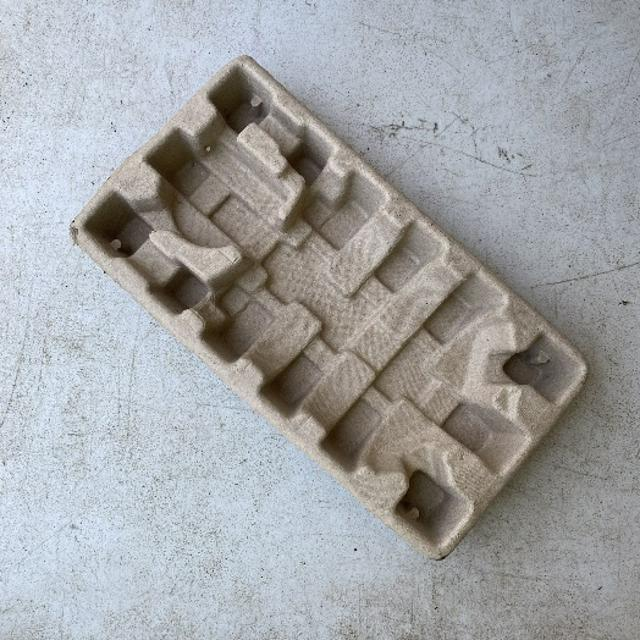Biodegradable: (60, 47, 601, 572)
